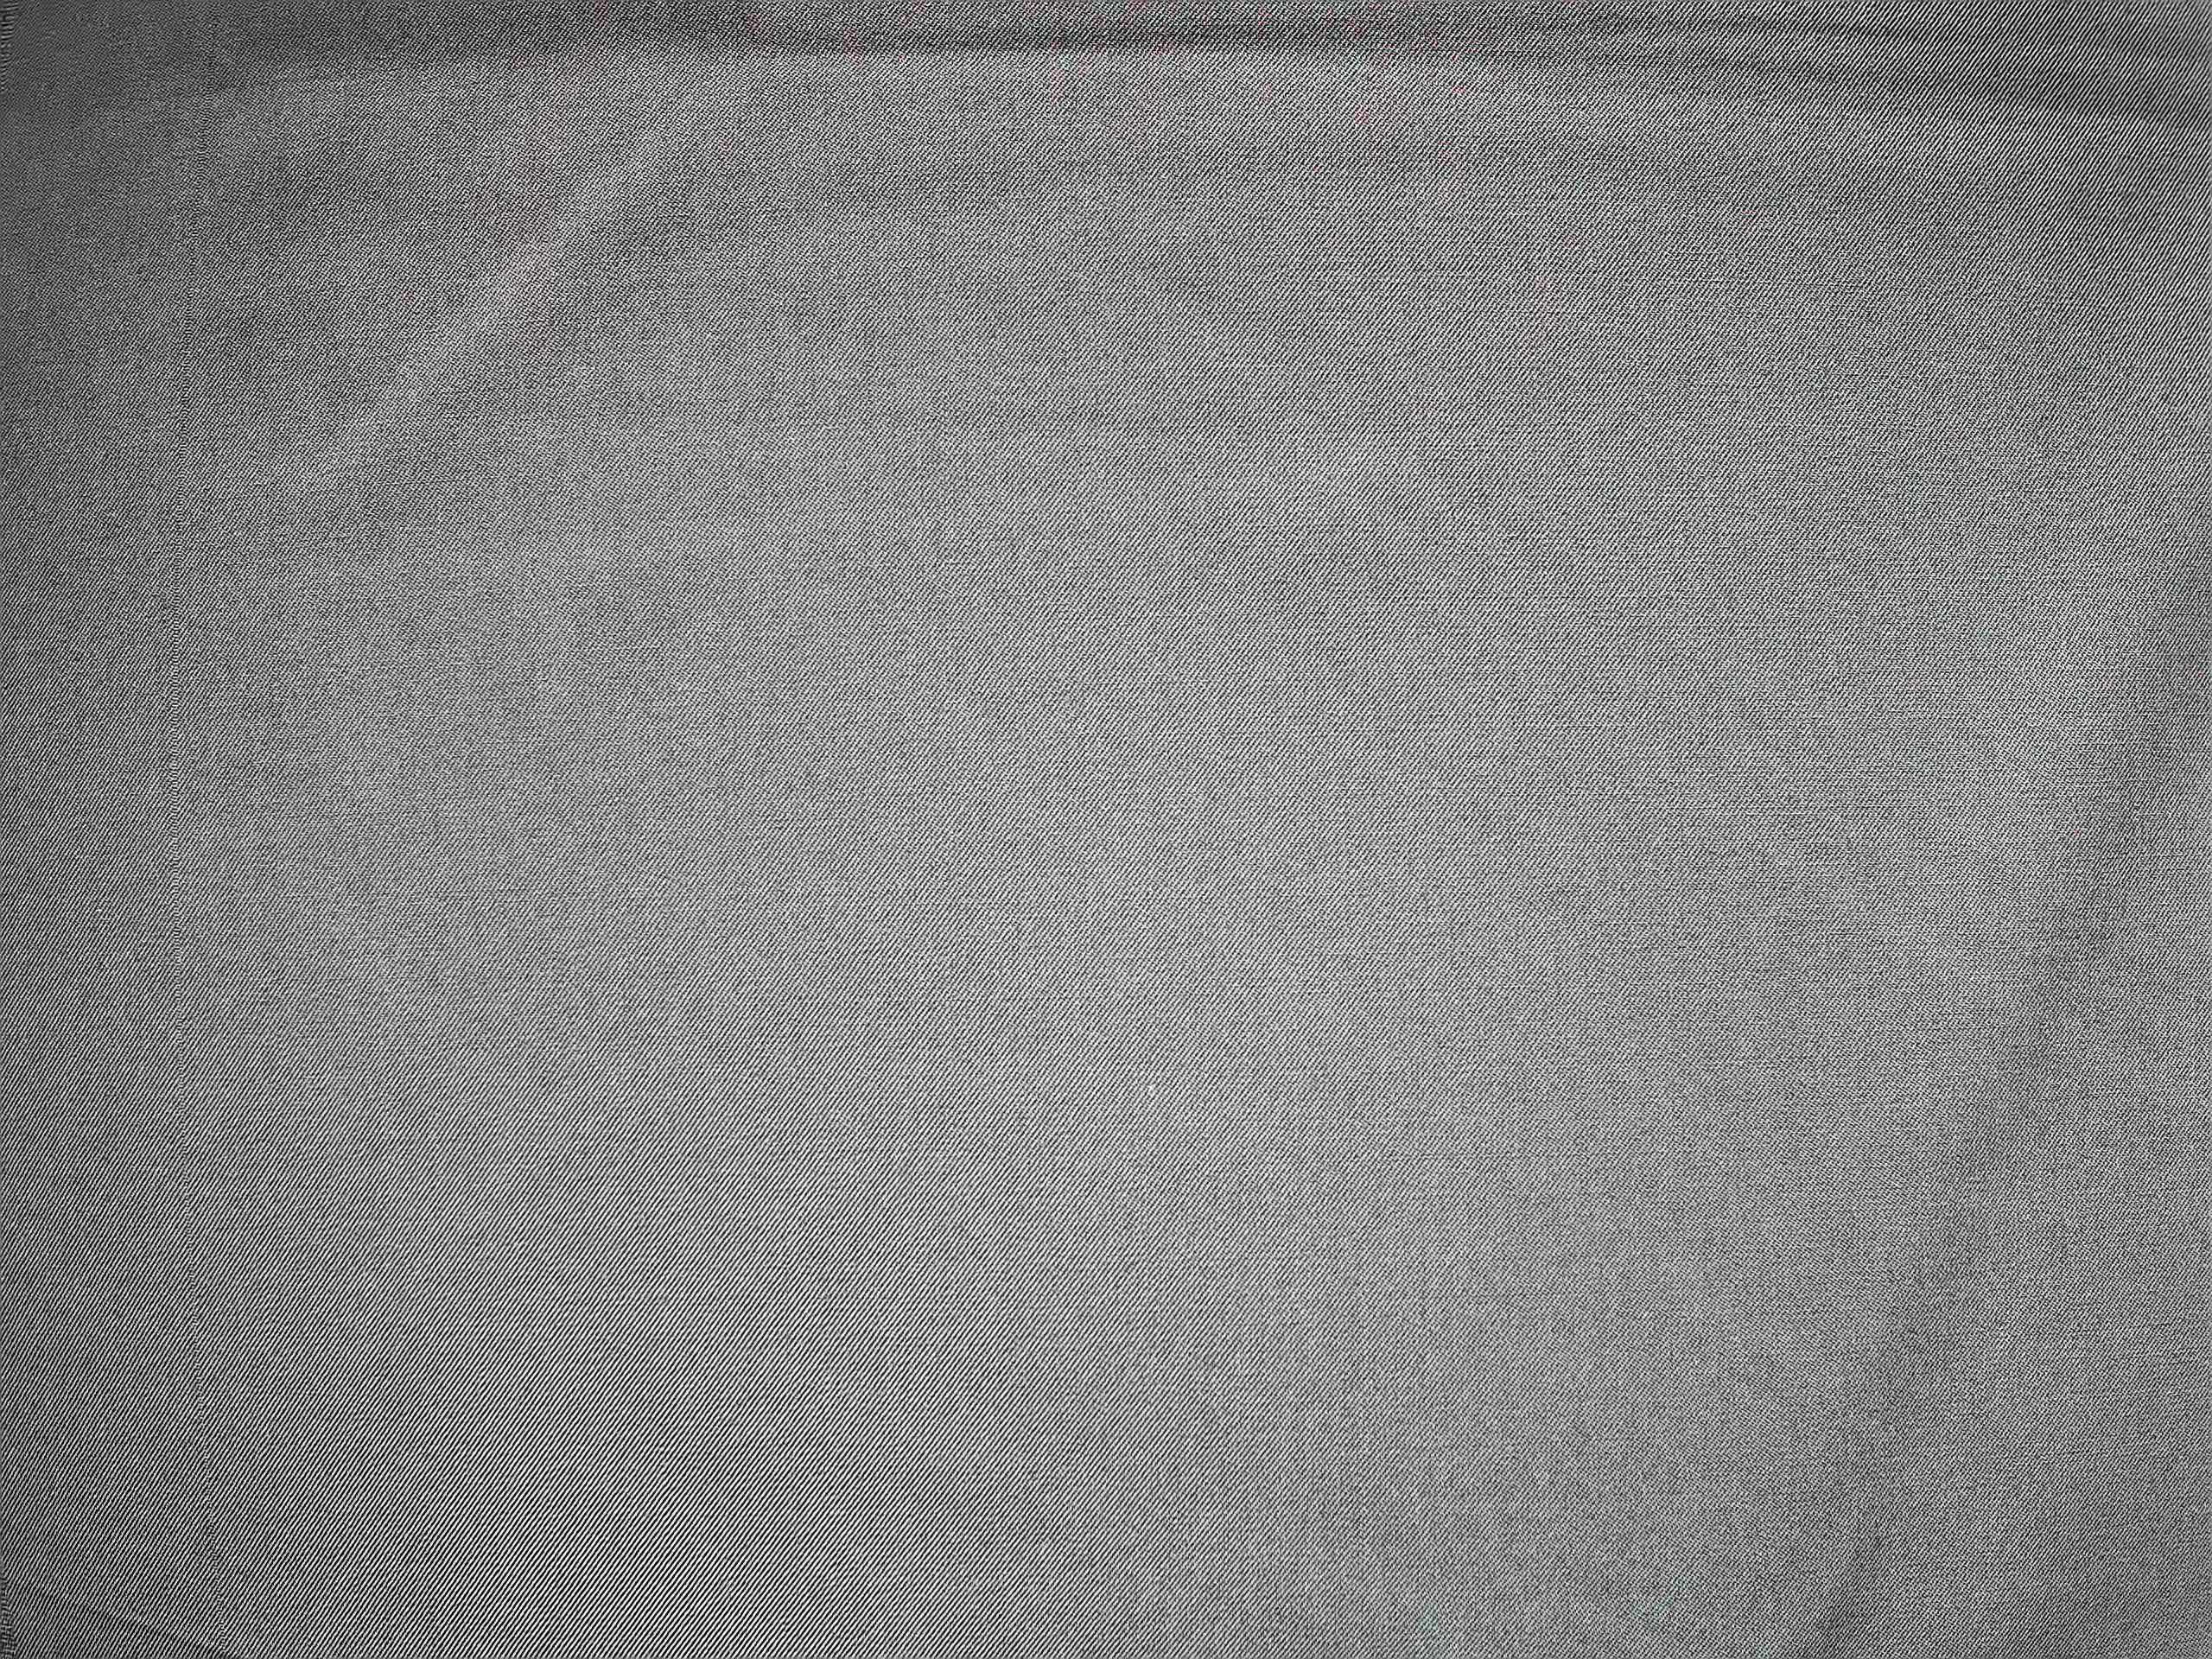lacking-warp: (143, 7, 235, 1635)
